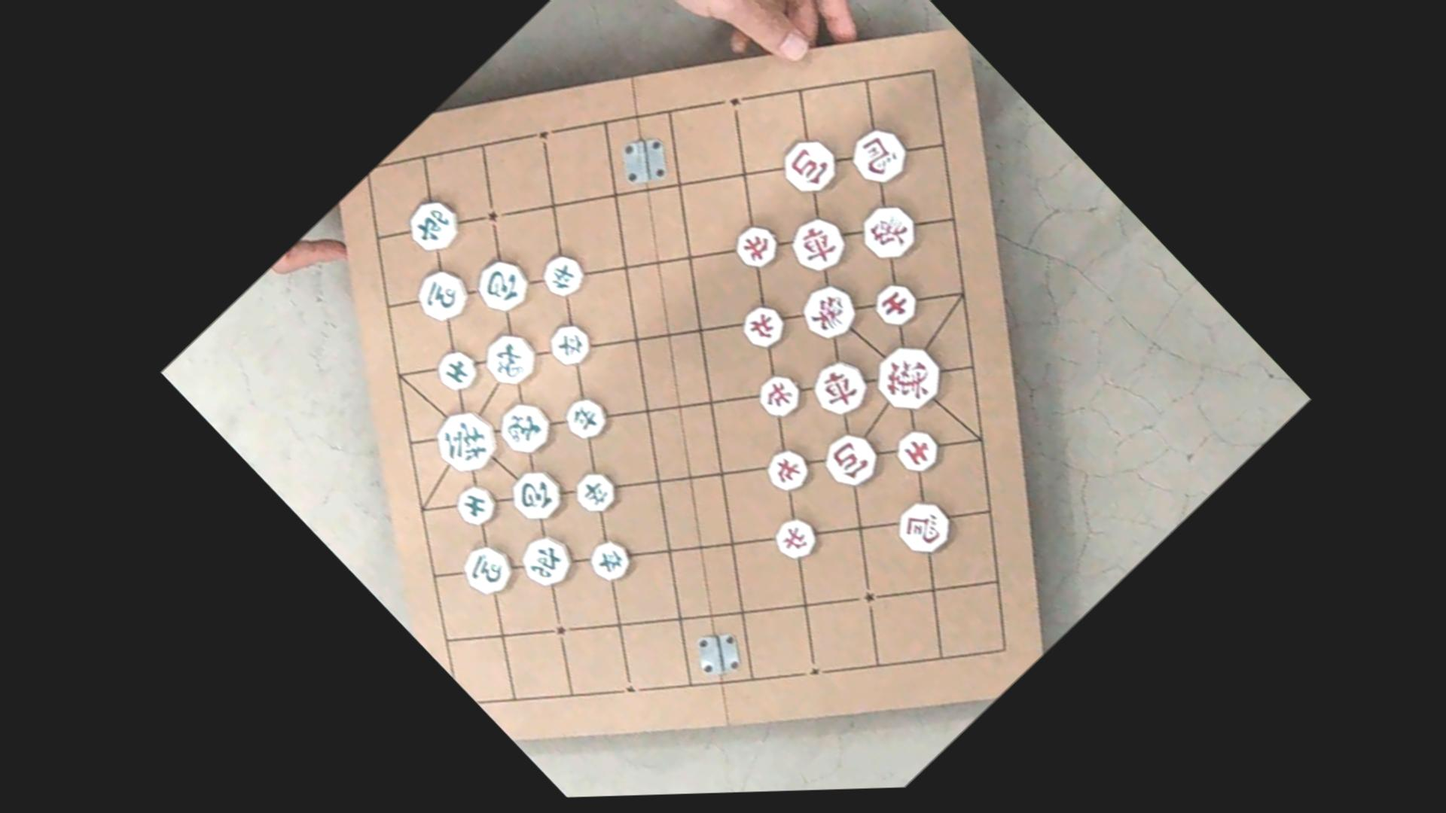cha_green: (398, 191, 468, 260), (512, 528, 581, 595)
cha_red: (780, 207, 854, 282), (803, 351, 877, 425)
jol_green: (534, 248, 590, 303), (582, 533, 637, 588), (558, 391, 613, 446), (541, 317, 596, 372), (567, 465, 621, 519)
jol_red: (726, 217, 786, 276), (757, 441, 816, 500), (734, 297, 792, 355), (749, 367, 807, 424), (767, 510, 824, 568)
ma_green: (407, 260, 476, 330), (454, 537, 520, 603)
ma_red: (841, 118, 916, 193), (887, 492, 959, 564)
po_green: (467, 251, 536, 319), (502, 461, 569, 529)
po_red: (773, 130, 844, 201), (815, 425, 886, 495)
sa_green: (429, 343, 483, 397), (448, 479, 502, 532)
sa_red: (889, 422, 945, 480), (866, 277, 923, 333)
sang_green: (474, 324, 544, 394), (490, 394, 559, 462)
sang_red: (852, 195, 926, 269), (792, 275, 865, 349)
wang_green: (423, 400, 506, 483)
wang_red: (864, 333, 952, 422)
